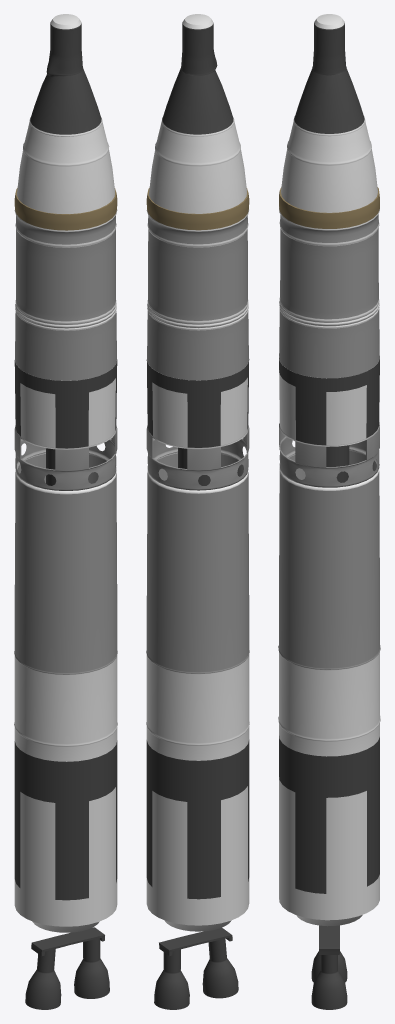
3 renders of one model, left to right at view 1: azimuth 30°, elevation 25°; view 2: azimuth 210°, elevation 25°; view 3: azimuth 270°, elevation 25°, orthographic.
Parts seen in each view (by area): view 1: STAGE_3, STAGE_2, CAPSULE, ENGEN3, ENGEN, THING, pCylinder1; view 2: STAGE_3, STAGE_2, CAPSULE, ENGEN, ENGEN3, THING, pCylinder1; view 3: STAGE_3, STAGE_2, CAPSULE, ENGEN3, THING, pCylinder1, ENGEN.
Part boxes in pixels (bbox=[...]): STAGE_3: bbox=[14, 359, 117, 932]; STAGE_2: bbox=[14, 188, 117, 380]; CAPSULE: bbox=[17, 14, 114, 213]; ENGEN3: bbox=[74, 938, 109, 998]; ENGEN: bbox=[25, 949, 61, 1009]; THING: bbox=[31, 927, 104, 956]; pCylinder1: bbox=[46, 448, 56, 485]; STAGE_3: bbox=[146, 359, 249, 931]; STAGE_2: bbox=[146, 188, 249, 380]; CAPSULE: bbox=[149, 14, 246, 213]; ENGEN: bbox=[202, 938, 238, 998]; ENGEN3: bbox=[154, 949, 189, 1009]; THING: bbox=[159, 927, 232, 955]; pCylinder1: bbox=[178, 447, 210, 485]; STAGE_3: bbox=[278, 356, 380, 926]; STAGE_2: bbox=[279, 187, 379, 378]; CAPSULE: bbox=[281, 14, 377, 212]; ENGEN3: bbox=[311, 955, 347, 1009]; THING: bbox=[319, 925, 339, 954]; pCylinder1: bbox=[326, 445, 349, 482]; ENGEN: bbox=[311, 951, 347, 982].
Size of the model in its own units: 0.5908 by 6.19 by 0.5899.
